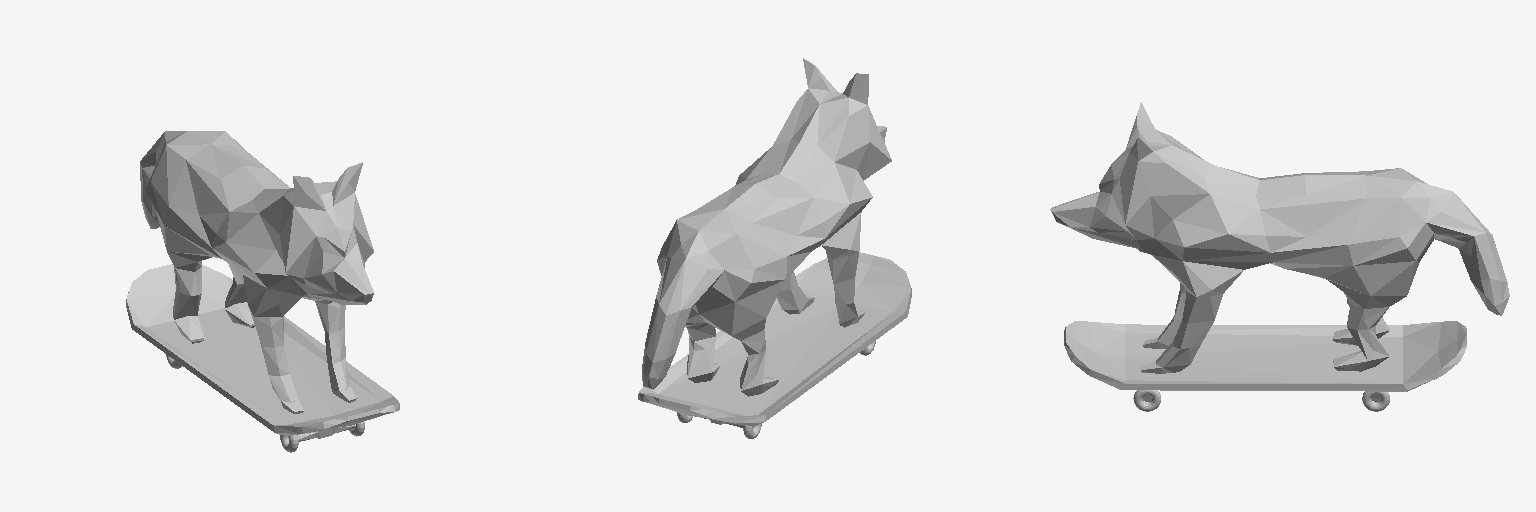
File: Fuchs29.obj
3 renders of one model, left to right at view 1: azimuth 30°, elevation 25°; view 2: azimuth 150°, elevation 25°; view 3: azimuth 270°, elevation 25°, orthographic.
Bounding box in the file's own units: 3.58 × 7.86 × 11.77.